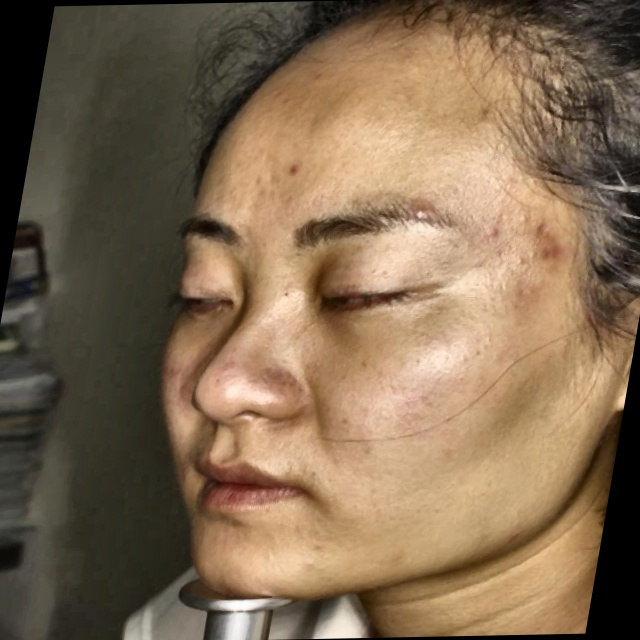comedone: (524, 218, 566, 274), (279, 150, 312, 180)
